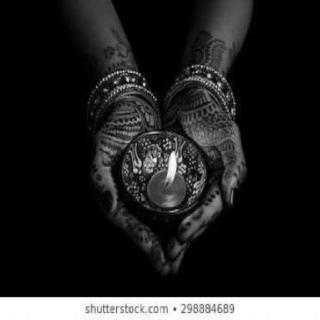Fire: (161, 147, 177, 191)
